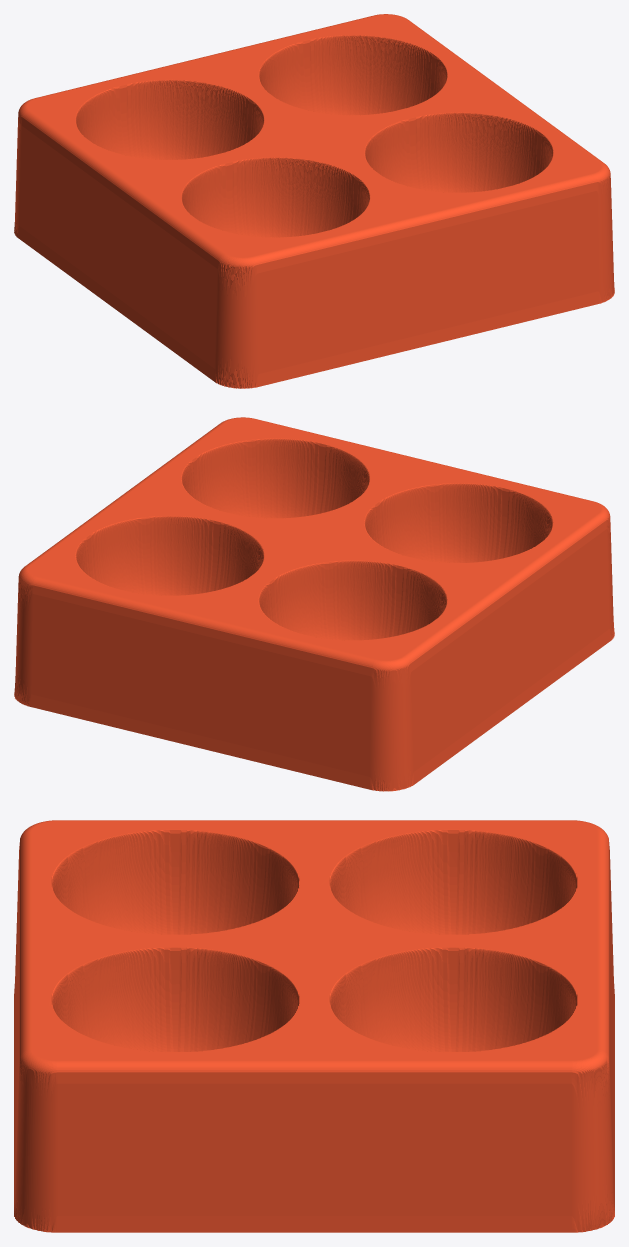
The model's file is mold.glb.
3 renders of one model, top to bottom at view 1: azimuth 30°, elevation 25°; view 2: azimuth 150°, elevation 25°; view 3: azimuth 270°, elevation 25°, orthographic. The views are drawn at different scales.
Visible parts, largest first — view 1: geometry_0; view 2: geometry_0; view 3: geometry_0.
Boxes of the visible parts, x1,y1,x2,y2 form: geometry_0: [14, 14, 614, 388]; geometry_0: [14, 417, 614, 791]; geometry_0: [14, 820, 614, 1232].
Size of the model in its own units: 0.1248 by 0.0377 by 0.1248.
